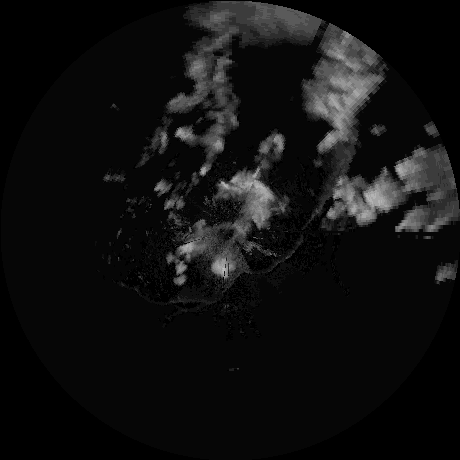frontgust: (258, 198, 327, 271), (169, 274, 238, 311)
